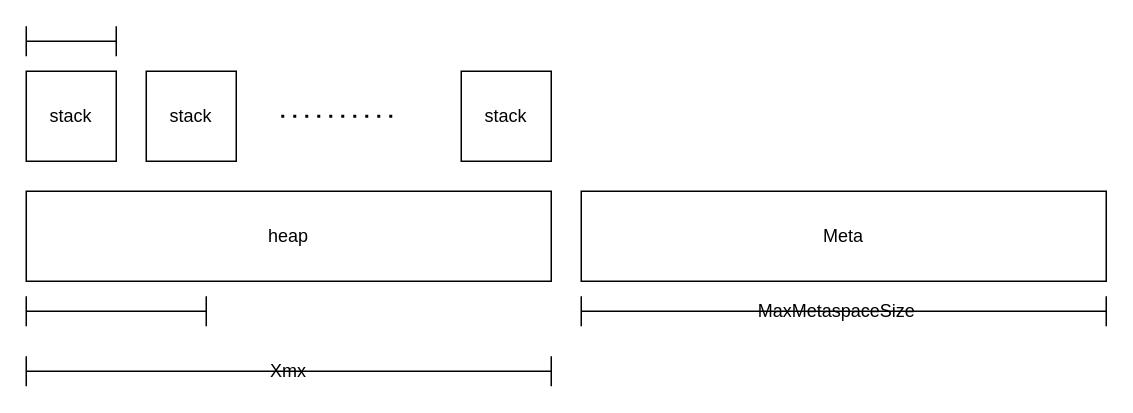
Image size: 1133x413. Some labels were removed from this diagram. Each missing label, with the box of its shape:
Xms: (25, 295, 206, 326)
Xss: (25, 25, 116, 56)
